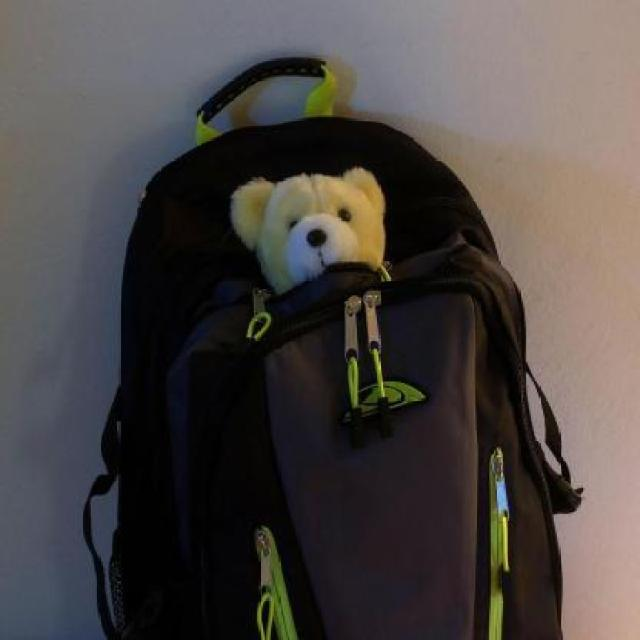backpack: (78, 44, 589, 640)
